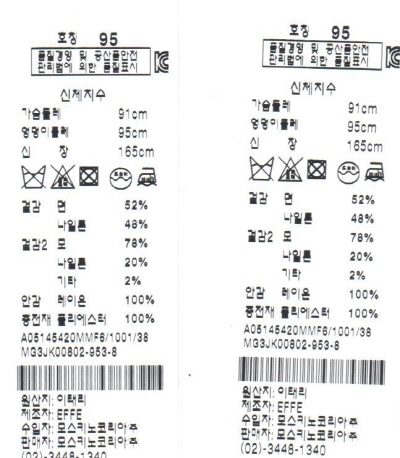do_not_wash: (19, 163, 47, 189), (247, 155, 275, 181)
